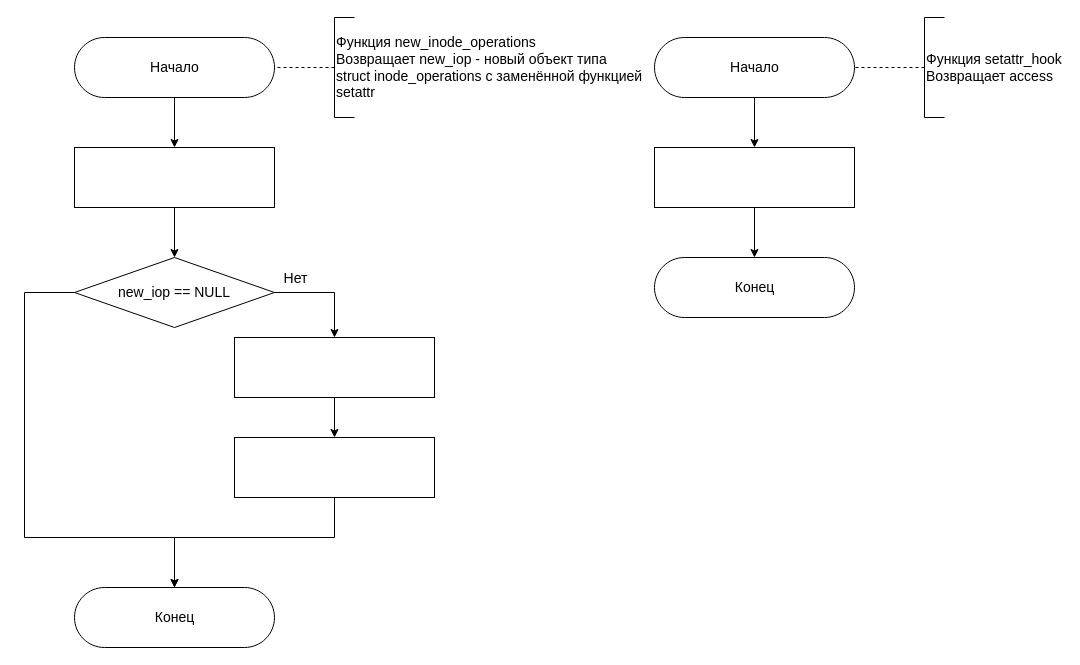
Some shapes in this 1080 by 665 pixel diagram are drawn without their labels. The centre of each missing label's shape, as x and y in pixels:
"access = -EACCES" goes at point 754,177.
"new_iop->setattr = setattr_hook" goes at point 334,467.
"Выделить память под новый объект new_iop типа struct inode_operations" goes at point 174,177.
"Скопировать в new_iop исходное значение i_op" goes at point 334,367.
